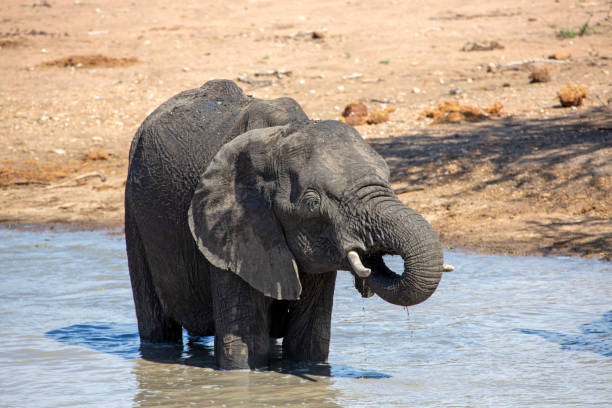africanelephant: (204, 115, 450, 309)
